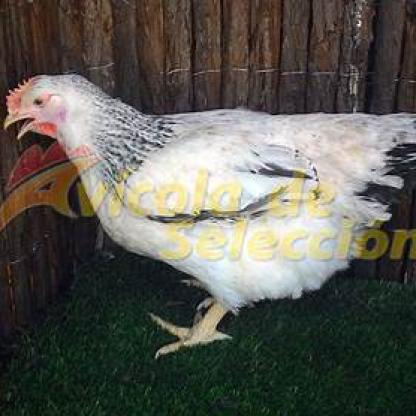chicken: (1, 72, 414, 366)
